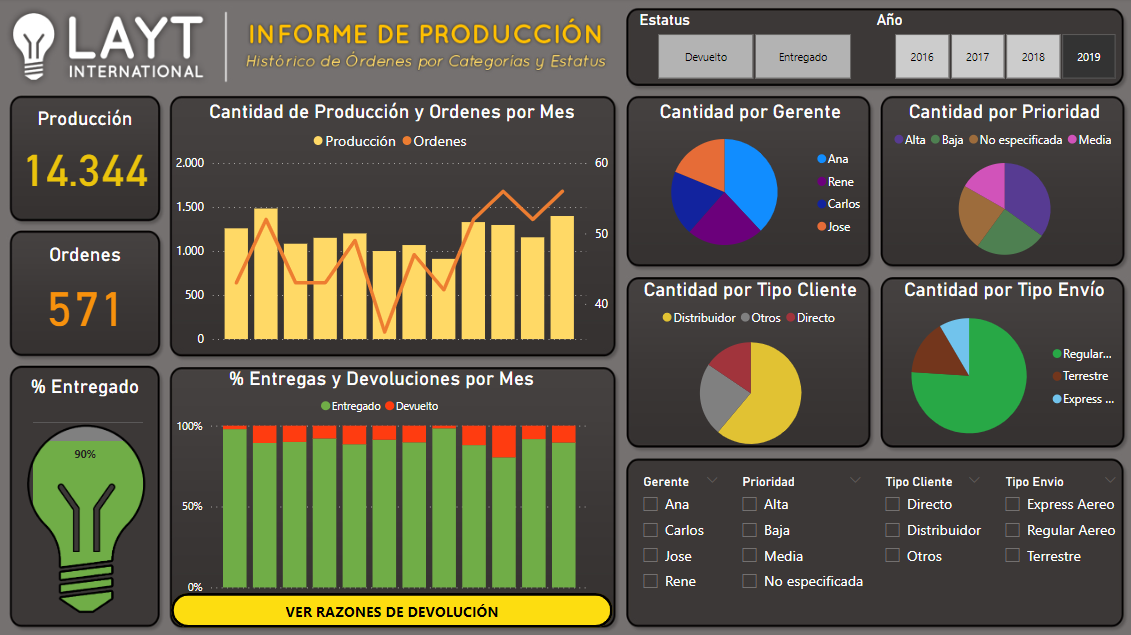

Layout of this report page (visuals, bound fields, positions):
{"tool":"powerbi","page":{"name":"Informe 1","canvas":[1280,720],"ordinal":2},"visuals":[{"type":"card","title":"Producción","fields":{"Values":["Sum(TablaTransacciones.Cantidad)"]},"box":[15.8,122.6,162,105.8],"z":0},{"type":"slicer","title":"Año","fields":{"Values":["TablaTransacciones.Fecha.Variación.Jerarquía de fechas.Año"]},"box":[982.1,14.6,298.1,83.2],"z":1000},{"type":"slicer","title":"Estatus","fields":{"Values":["TablaEstatus.Estatus"]},"box":[715.5,14.6,266.6,83.2],"z":2000},{"type":"card","title":"Ordenes","fields":{"Values":["CountNonNull(TablaTransacciones.Cantidad)"]},"box":[15.8,275.6,162,111.4],"z":3000},{"type":"lineStackedColumnComboChart","title":"Cantidad de Producción y Ordenes por Mes","fields":{"Category":["TablaTransacciones.Fecha.Variación.Jerarquía de fechas.Mes"],"Y":["Sum(TablaTransacciones.Cantidad)"],"Y2":["CountNonNull(TablaTransacciones.Cantidad)"]},"box":[193.5,114.8,497.2,283.5],"z":4000},{"type":"hundredPercentStackedColumnChart","title":"% Entregas y Devoluciones por Mes","fields":{"Category":["TablaTransacciones.Fecha.Variación.Jerarquía de fechas.Año","TablaTransacciones.Fecha.Variación.Jerarquía de fechas.Mes"],"Y":["Sum(TablaTransacciones.Cantidad)"],"Series":["EstatusOrden.Estatus"]},"box":[193.5,415.1,473.6,262.1],"z":5000},{"type":"hundredPercentStackedColumnChart","fields":{"Y":["Sum(TablaTransacciones.Cantidad)"],"Series":["EstatusOrden.Estatus"]},"box":[16,463,162.3,236.8],"z":6000},{"type":"hundredPercentStackedColumnChart","fields":{"Y":["Sum(TablaTransacciones.Cantidad)"],"Series":["EstatusOrden.Estatus"]},"box":[0,463,115.8,236.8],"z":7000},{"type":"hundredPercentStackedColumnChart","fields":{"Y":["Sum(TablaTransacciones.Cantidad)"],"Series":["EstatusOrden.Estatus"]},"box":[86.6,463.5,112.5,236.2],"z":8000},{"type":"image","box":[14.6,472.5,166.5,227.2],"z":9000},{"type":"card","title":"% Entregado","fields":{"Values":["CountNonNull(TablaTransacciones.Cantidad)"]},"box":[15.8,424.1,162,31.5],"z":10000},{"type":"pieChart","title":"Cantidad por Gerente","fields":{"Category":["TablaTransacciones.Gerente"],"Y":["Sum(TablaTransacciones.Cantidad)"]},"box":[707.6,114.8,275.6,183.4],"z":11000},{"type":"pieChart","title":"Cantidad por Tipo Cliente","fields":{"Y":["Sum(TablaTransacciones.Cantidad)"],"Category":["TablaTransacciones.Tipo Cliente"]},"box":[707.6,315,275.6,205.9],"z":12000},{"type":"pieChart","title":"Cantidad por Prioridad","fields":{"Y":["Sum(TablaTransacciones.Cantidad)"],"Category":["TablaTransacciones.Prioridad"]},"box":[993.4,114.8,275.6,192.4],"z":13000},{"type":"pieChart","title":"Cantidad por Tipo Envío","fields":{"Y":["Sum(TablaTransacciones.Cantidad)"],"Category":["TablaTransacciones.Tipo Envio"]},"box":[993.4,315,275.6,195.8],"z":14000},{"type":"slicer","fields":{"Values":["TablaTransacciones.Gerente"]},"box":[712.1,531,109.1,156.4],"z":15000},{"type":"slicer","fields":{"Values":["TablaTransacciones.Prioridad"]},"box":[823.5,531,158.6,156.4],"z":16000},{"type":"slicer","fields":{"Values":["TablaTransacciones.Tipo Cliente"]},"box":[984.4,531,131.6,156.4],"z":17000},{"type":"slicer","fields":{"Values":["TablaTransacciones.Tipo Envio"]},"box":[1119.4,531,149.6,156.4],"z":18000},{"type":"actionButton","box":[193.5,669.4,497.2,39.4],"z":18001}]}

Visuals, with their boxes in screenshot pixels (x1, y1, x2, y2), scaled from the page's 1280x720 canvas onto the 1131x635 screenshot:
"Producción" card: locate(14, 108, 157, 201)
"Año" slicer: locate(868, 13, 1130, 86)
"Estatus" slicer: locate(632, 13, 868, 86)
"Ordenes" card: locate(14, 243, 157, 341)
"Cantidad de Producción y Ordenes por Mes" lineStackedColumnComboChart: locate(171, 101, 610, 351)
"% Entregas y Devoluciones por Mes" hundredPercentStackedColumnChart: locate(171, 366, 589, 597)
hundredPercentStackedColumnChart - Sum(TablaTransacciones.Cantidad) x EstatusOrden.Estatus: locate(14, 408, 158, 617)
hundredPercentStackedColumnChart - Sum(TablaTransacciones.Cantidad) x EstatusOrden.Estatus: locate(0, 408, 102, 617)
hundredPercentStackedColumnChart - Sum(TablaTransacciones.Cantidad) x EstatusOrden.Estatus: locate(77, 409, 176, 617)
image: locate(13, 417, 160, 617)
"% Entregado" card: locate(14, 374, 157, 402)
"Cantidad por Gerente" pieChart: locate(625, 101, 869, 263)
"Cantidad por Tipo Cliente" pieChart: locate(625, 278, 869, 459)
"Cantidad por Prioridad" pieChart: locate(878, 101, 1121, 271)
"Cantidad por Tipo Envío" pieChart: locate(878, 278, 1121, 450)
slicer - TablaTransacciones.Gerente: locate(629, 468, 726, 606)
slicer - TablaTransacciones.Prioridad: locate(728, 468, 868, 606)
slicer - TablaTransacciones.Tipo Cliente: locate(870, 468, 986, 606)
slicer - TablaTransacciones.Tipo Envio: locate(989, 468, 1121, 606)
actionButton: locate(171, 590, 610, 625)
